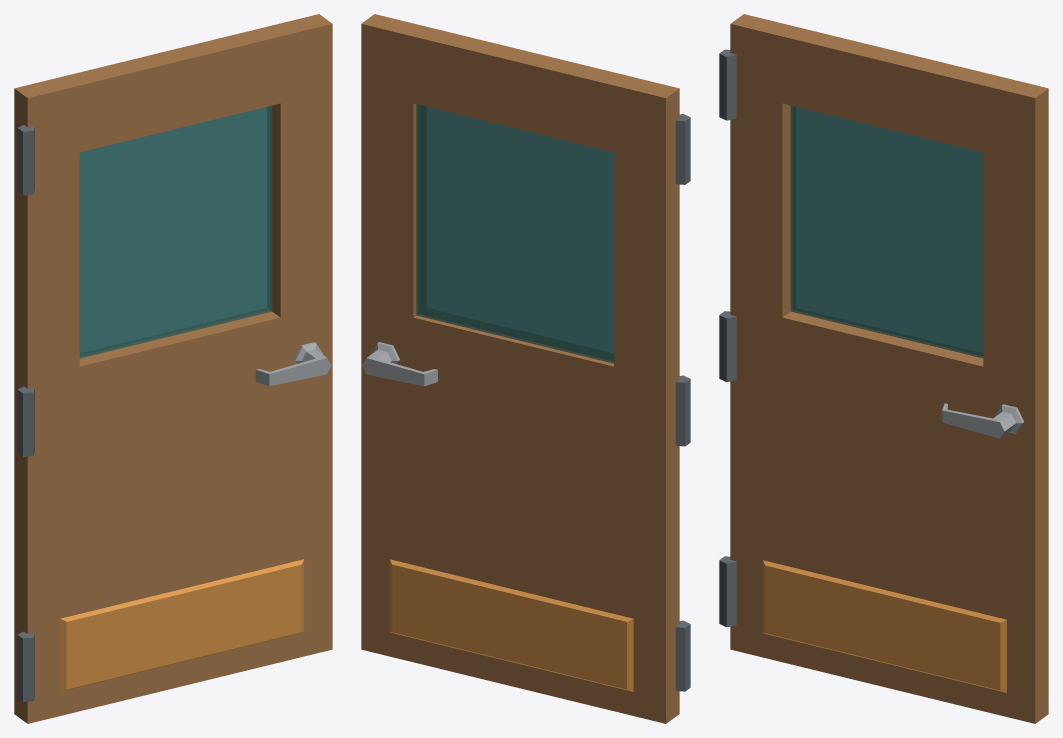
Rendered from Door_04.FBX.
3 renders of one model, left to right at view 1: azimuth 30°, elevation 25°; view 2: azimuth 150°, elevation 25°; view 3: azimuth 330°, elevation 25°, orthographic.
Visible parts, largest first — view 1: Door_04, Glass; view 2: Door_04, Glass; view 3: Door_04, Glass.
Part boxes in pixels (left/top/right/bottom): Door_04: left=14, top=14, right=332, bottom=723; Glass: left=79, top=105, right=272, bottom=358; Door_04: left=361, top=14, right=690, bottom=723; Glass: left=416, top=104, right=613, bottom=363; Door_04: left=719, top=14, right=1048, bottom=723; Glass: left=790, top=105, right=983, bottom=358.
Bounding box in the file's own units: 103 × 197 × 24.73.
